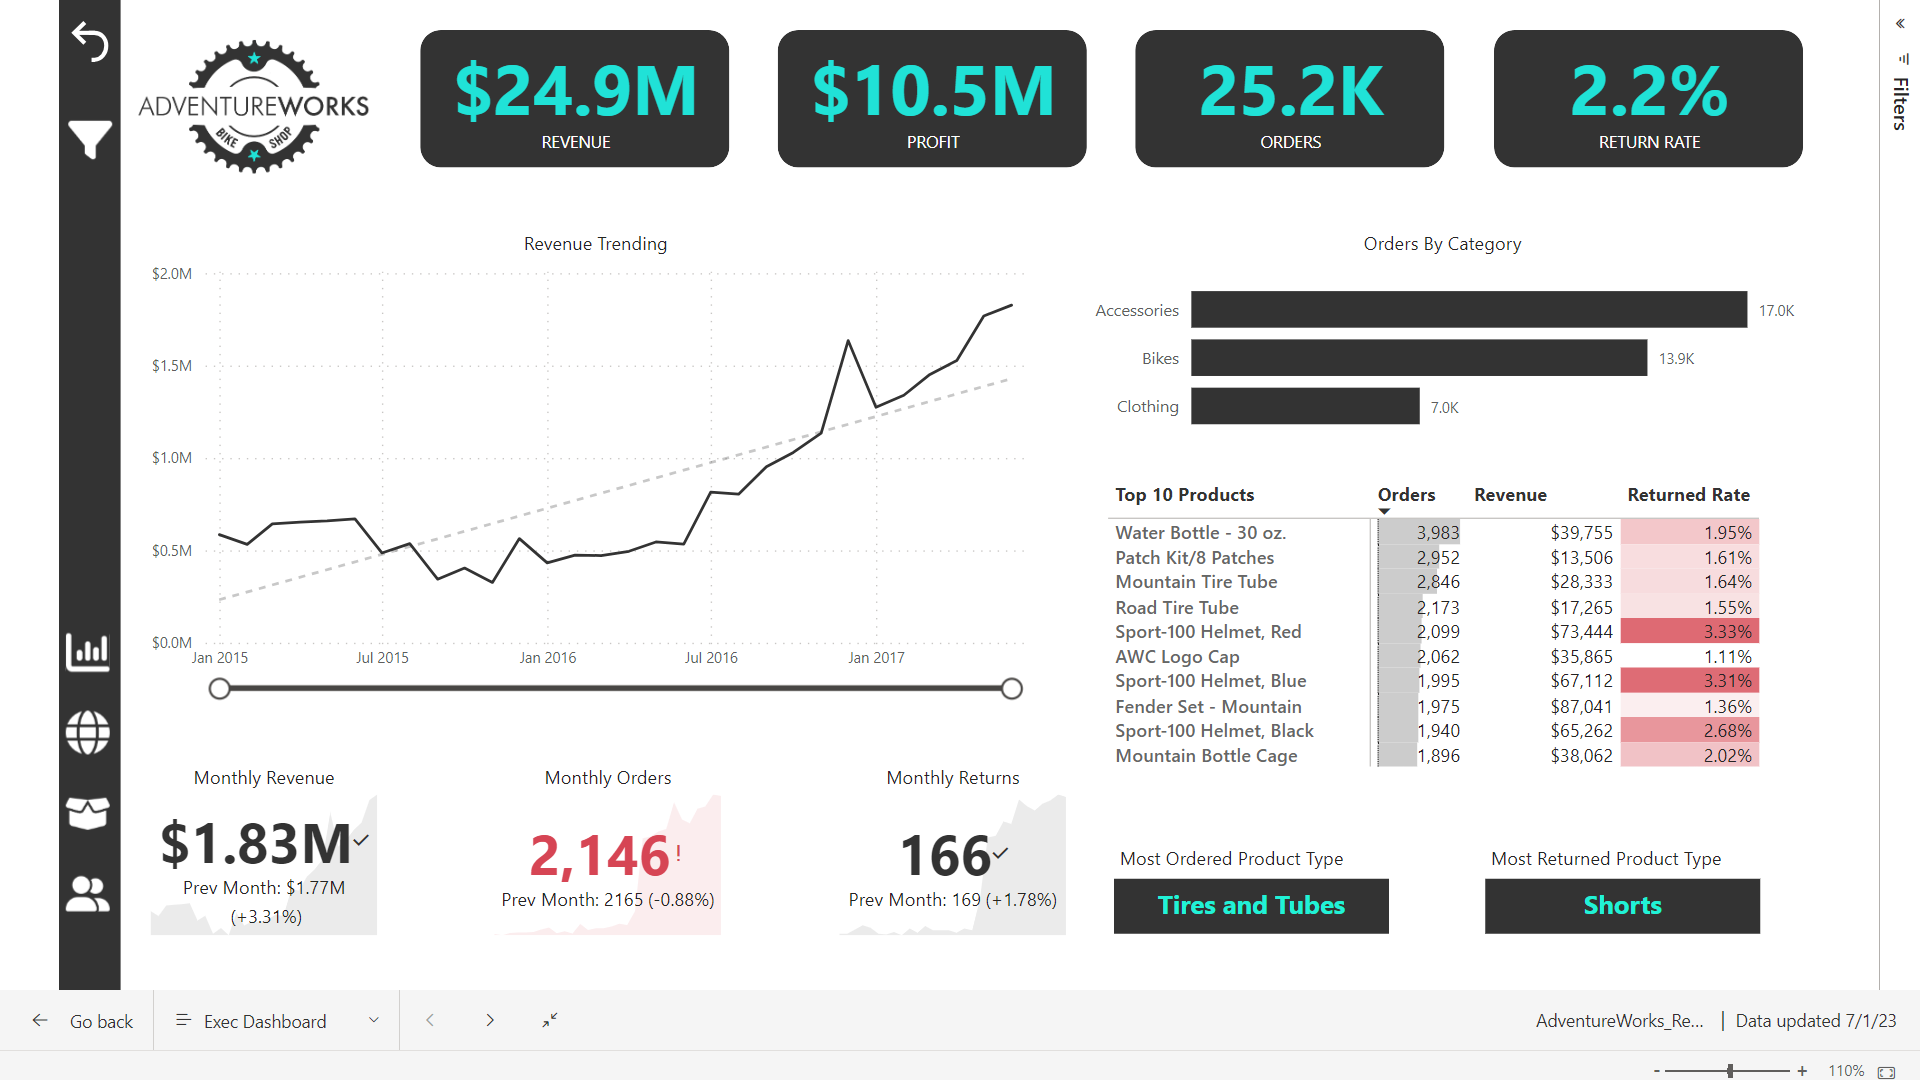

Layout of this report page (visuals, bound fields, positions):
{"tool":"powerbi","page":{"name":"Exec Dashboard","canvas":[1280,720],"ordinal":0},"visuals":[{"type":"image","title":"AW_logo","box":[34.3,0,214.3,155.7],"z":0},{"type":"card","fields":{"Values":["AW_Sales.Total Revenue"]},"box":[269.1,9.5,213.9,122.2],"z":0,"group":"g2"},{"type":"shape","box":[262.9,21.9,225,100],"z":0,"group":"g1"},{"type":"actionButton","box":[1.1,454.3,44.3,40],"z":0,"group":"g3"},{"type":"shape","title":"left nav background","box":[0,0,45,720],"z":1000},{"type":"card","fields":{"Values":["AW_Sales.Total Profit"]},"box":[529.3,9.5,213.9,122.2],"z":1000,"group":"g2"},{"type":"shape","box":[523.1,22.2,225,100],"z":1000,"group":"g1"},{"type":"actionButton","box":[1.1,512.9,44.3,40],"z":1000,"group":"g3"},{"type":"card","fields":{"Values":["AW_Sales.Total Orders"]},"box":[789.5,9.5,213.9,122.2],"z":2000,"group":"g2"},{"type":"group","id":"g1","title":"KPI background","box":[262.9,21.9,1005.6,100.3],"z":2000},{"type":"shape","box":[783.3,22.2,225,100],"z":2000,"group":"g1"},{"type":"actionButton","box":[1.1,630,44.3,40],"z":2000,"group":"g3"},{"type":"group","id":"g2","title":"KPI Values","box":[269.1,9.5,994.4,122.2],"z":3000},{"type":"card","fields":{"Values":["AW_Returns.Returned Rate"]},"box":[1049.7,9.5,213.9,122.2],"z":3000,"group":"g2"},{"type":"shape","box":[1043.5,22.2,225,100],"z":3000,"group":"g1"},{"type":"actionButton","box":[1.1,571.4,44.3,40],"z":3000,"group":"g3"},{"type":"lineChart","title":"Revenue Trending","fields":{"Y":["AW_Sales.Total Revenue"],"Category":["AW_Calender_Lookup.Start of Month"]},"box":[61.4,167.1,657.1,344.3],"z":4000},{"type":"kpi","title":"Monthly Revenue","fields":{"Indicator":["AW_Sales.Total Revenue"],"TrendLine":["AW_Calender_Lookup.Start of Month"],"Goal":["AW_Sales.Previous Month Revenue"]},"box":[61.4,555.1,174.8,129.6],"z":5000},{"type":"kpi","title":"Monthly Orders","fields":{"TrendLine":["AW_Calender_Lookup.Start of Month"],"Indicator":["AW_Sales.Total Orders"],"Goal":["AW_Sales.Previous Month Orders"]},"box":[312,555.1,174.8,129.6],"z":6000},{"type":"kpi","title":"Monthly Returns","fields":{"TrendLine":["AW_Calender_Lookup.Start of Month"],"Indicator":["AW_Returns.Total Returns"],"Goal":["AW_Returns.Previous Month Returns"]},"box":[562.6,555.1,174.8,129.6],"z":7000},{"type":"clusteredBarChart","title":"Orders By Category","fields":{"Category":["AW_Product_Category_Lookup.CategoryName"],"Y":["AW_Sales.Total Orders"]},"box":[743.2,166.9,525.4,162.1],"z":8000},{"type":"pivotTable","fields":{"Rows":["AW_Product_Lookup.ProductName"],"Values":["AW_Sales.Total Orders","AW_Sales.Total Revenue","AW_Returns.Returned Rate"]},"box":[758.6,345.6,504.1,230.8],"z":9000},{"type":"card","fields":{"Values":["Min(AW_Product_Subcategory_Lookup.SubcategoryName)"]},"box":[766.9,638.8,200,40],"z":10000},{"type":"textbox","box":[766.6,610,200,34.3],"z":11000},{"type":"card","fields":{"Values":["Min(AW_Product_Subcategory_Lookup.SubcategoryName)"]},"box":[1036.9,638.8,200,40],"z":12000},{"type":"textbox","box":[1036.4,610,200,34.3],"z":13000},{"type":"actionButton","box":[2.9,10,45.7,40],"z":14000},{"type":"group","id":"g3","title":"Nevigation Buttons","box":[1.1,454.3,44.3,215.7],"z":15000},{"type":"actionButton","box":[2.4,81.9,45.2,40.3],"z":16000}]}

Visuals, with their boxes on the page's 1280x720 design canvas (x1, y1, x2, y2). These are canvas units, not pixel positions in the 1920x1080 screenshot, which may show the page scaled, cropped or inside an application window:
"AW_logo" image: crop(34, 0, 249, 156)
card - AW_Sales.Total Revenue: crop(269, 10, 483, 132)
shape: crop(263, 22, 488, 122)
actionButton: crop(1, 454, 45, 494)
"left nav background" shape: crop(0, 0, 45, 720)
card - AW_Sales.Total Profit: crop(529, 10, 743, 132)
shape: crop(523, 22, 748, 122)
actionButton: crop(1, 513, 45, 553)
card - AW_Sales.Total Orders: crop(790, 10, 1003, 132)
"KPI background" group: crop(263, 22, 1268, 122)
shape: crop(783, 22, 1008, 122)
actionButton: crop(1, 630, 45, 670)
"KPI Values" group: crop(269, 10, 1264, 132)
card - AW_Returns.Returned Rate: crop(1050, 10, 1264, 132)
shape: crop(1044, 22, 1268, 122)
actionButton: crop(1, 571, 45, 611)
"Revenue Trending" lineChart: crop(61, 167, 718, 511)
"Monthly Revenue" kpi: crop(61, 555, 236, 685)
"Monthly Orders" kpi: crop(312, 555, 487, 685)
"Monthly Returns" kpi: crop(563, 555, 737, 685)
"Orders By Category" clusteredBarChart: crop(743, 167, 1269, 329)
pivotTable - AW_Product_Lookup.ProductName x AW_Sales.Total Orders: crop(759, 346, 1263, 576)
card - Min(AW_Product_Subcategory_Lookup.SubcategoryName): crop(767, 639, 967, 679)
textbox: crop(767, 610, 967, 644)
card - Min(AW_Product_Subcategory_Lookup.SubcategoryName): crop(1037, 639, 1237, 679)
textbox: crop(1036, 610, 1236, 644)
actionButton: crop(3, 10, 49, 50)
"Nevigation Buttons" group: crop(1, 454, 45, 670)
actionButton: crop(2, 82, 48, 122)
